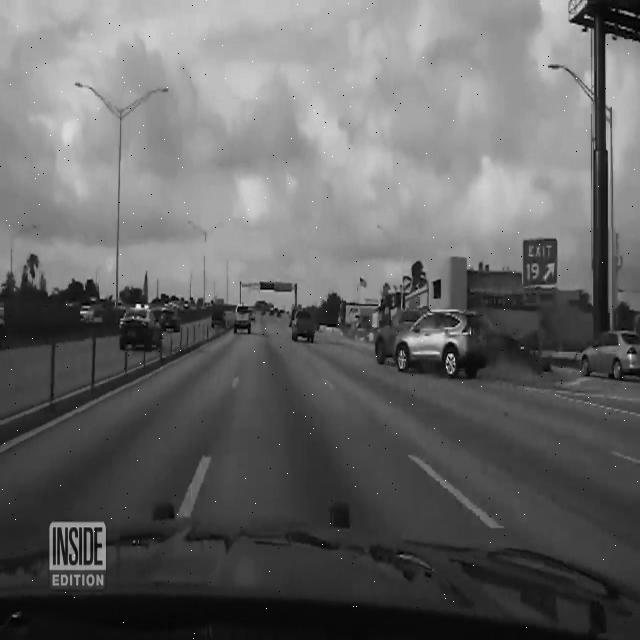accident: (371, 295, 494, 388)
